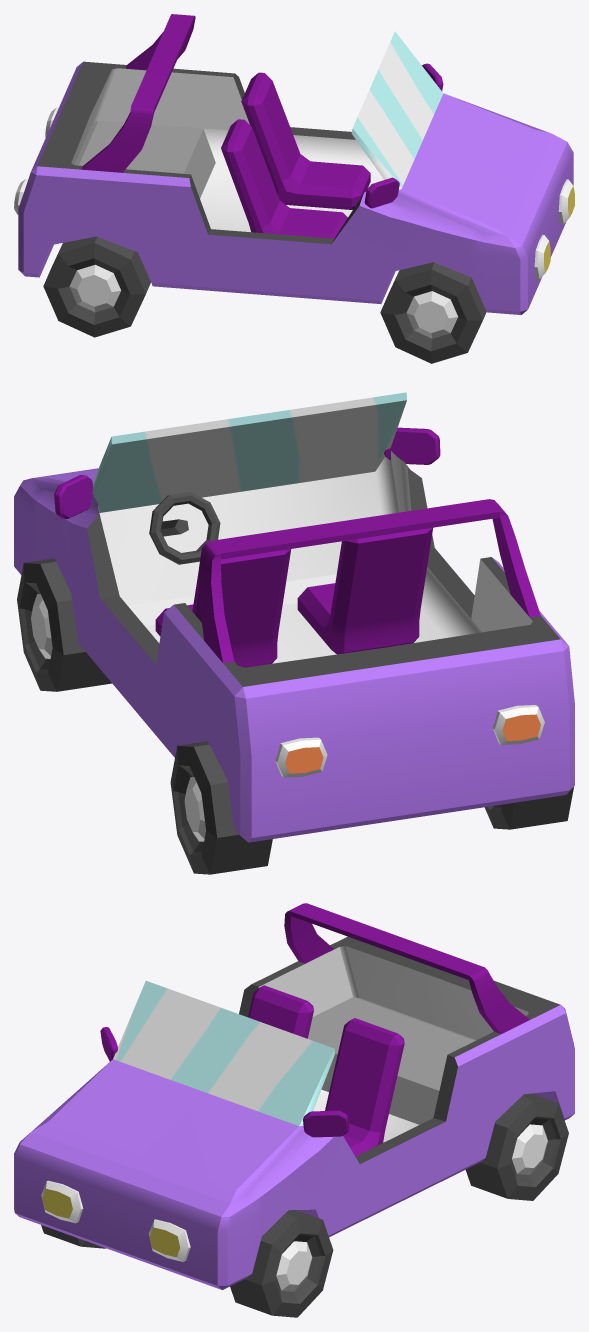
Rendered from topless.glb.
3 views of the same model, one above another, from view 1: azimuth 30°, elevation 25°; view 2: azimuth 150°, elevation 25°; view 3: azimuth 270°, elevation 25° (orthographic). The views are drawn at different scales.
Parts seen in each view (by area): view 1: body, pCylinder5, pCylinder6; view 2: body, pCylinder4, polySurface86, pCylinder5; view 3: body, pCylinder4, polySurface86.
Boxes of the visible parts, left/top/right/bottom form: body: left=14, top=14, right=574, bottom=314; pCylinder5: left=43, top=236, right=150, bottom=337; pCylinder6: left=380, top=262, right=486, bottom=363; body: left=14, top=392, right=574, bottom=842; pCylinder4: left=170, top=741, right=272, bottom=874; polySurface86: left=17, top=558, right=111, bottom=691; pCylinder5: left=484, top=787, right=573, bottom=829; body: left=14, top=903, right=574, bottom=1289; pCylinder4: left=465, top=1093, right=568, bottom=1200; polySurface86: left=230, top=1210, right=333, bottom=1317.
Size of the model in its own units: 0.8177 by 0.3585 by 0.7761.
Materials: 1 (1 with a texture image).
